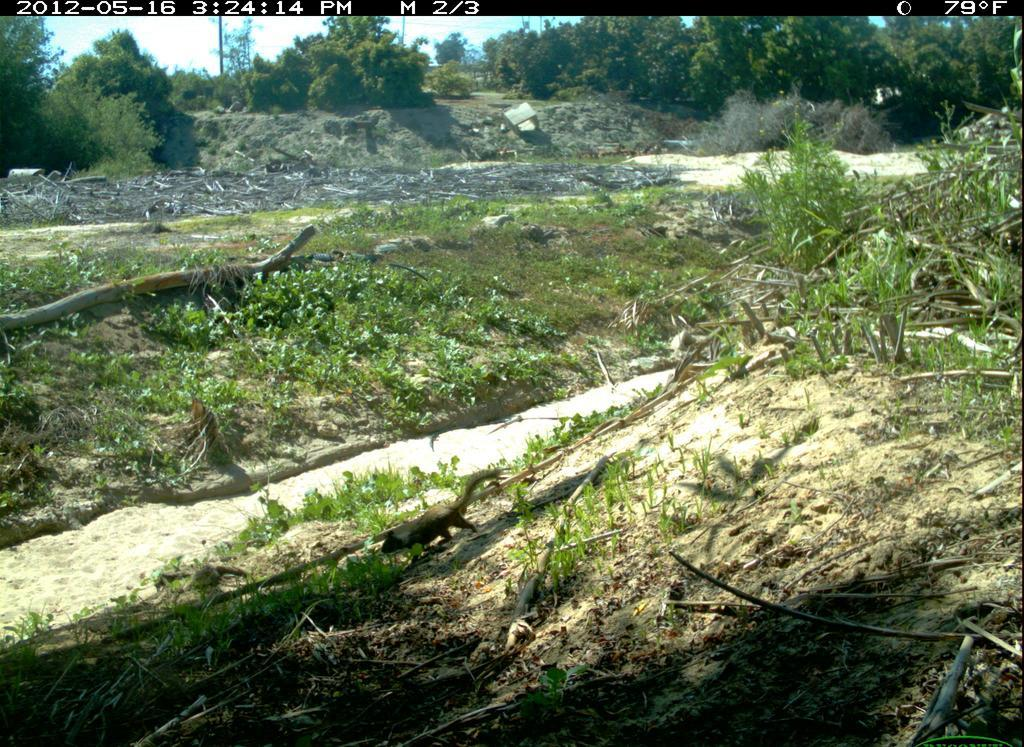squirrel: (377, 462, 503, 558)
